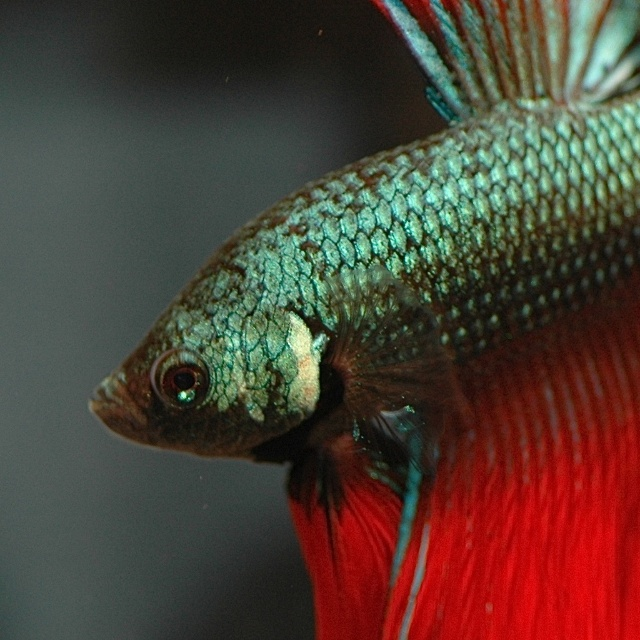Fish: (88, 0, 639, 639)
